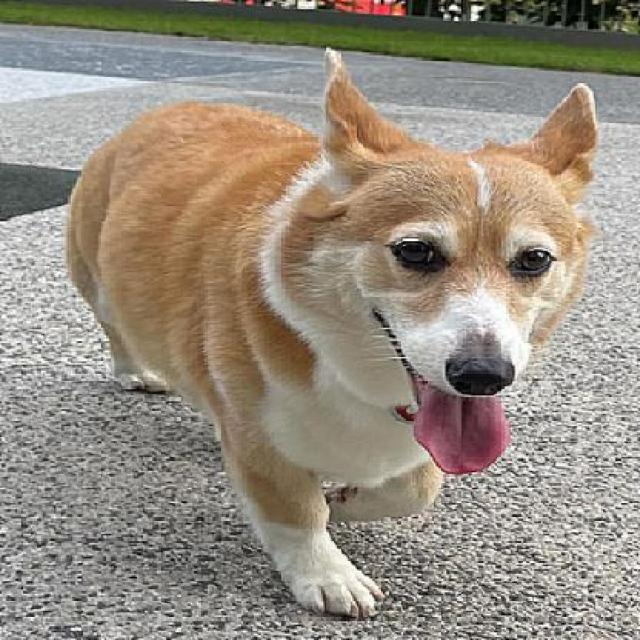Dog: (63, 44, 603, 618)
